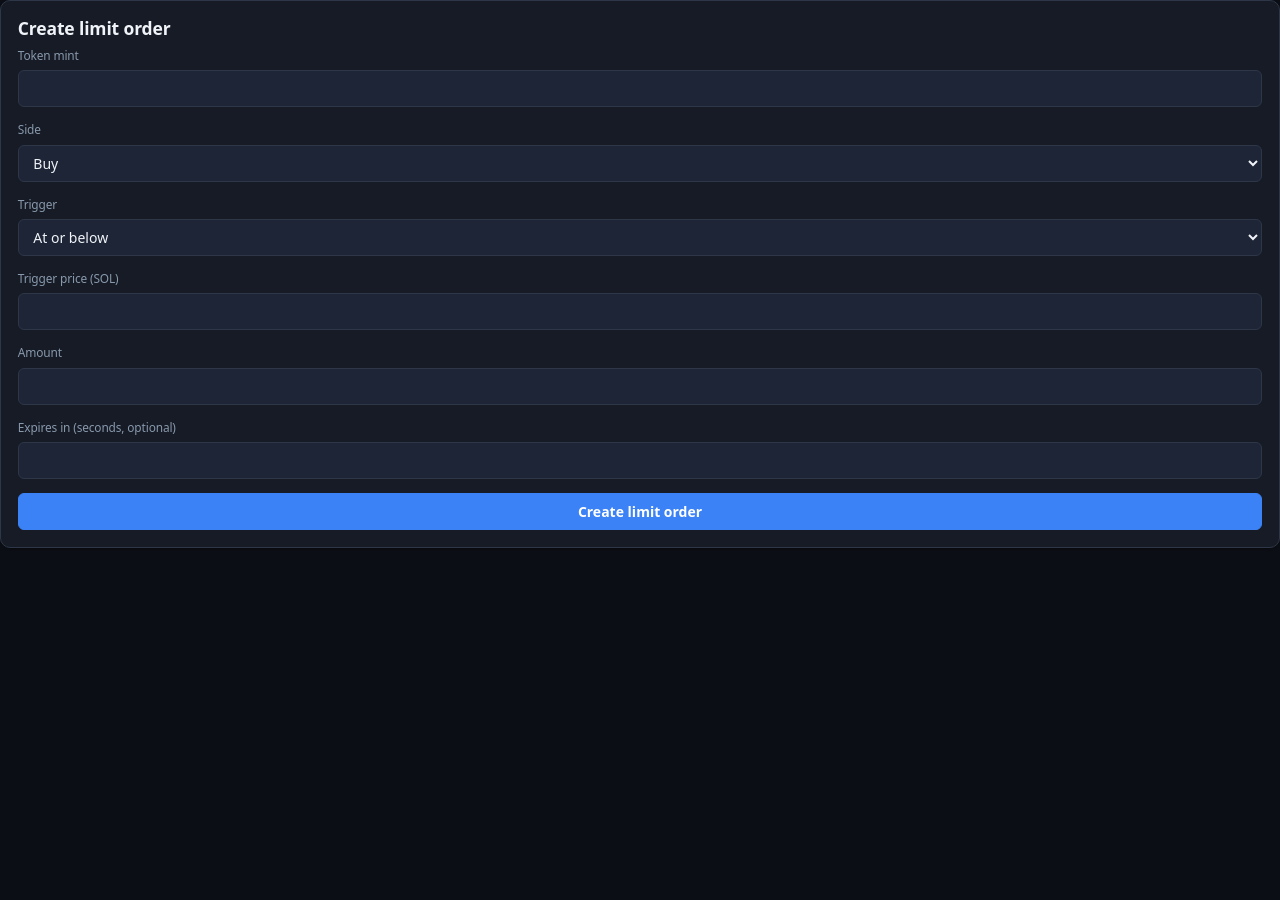
Limit orders › refuses a sell amount above the server's position-fraction limit
In the field labelled "Token mint": (640, 89) [18,70,1262,107], type "So11111111111111111111111111111111111111112"
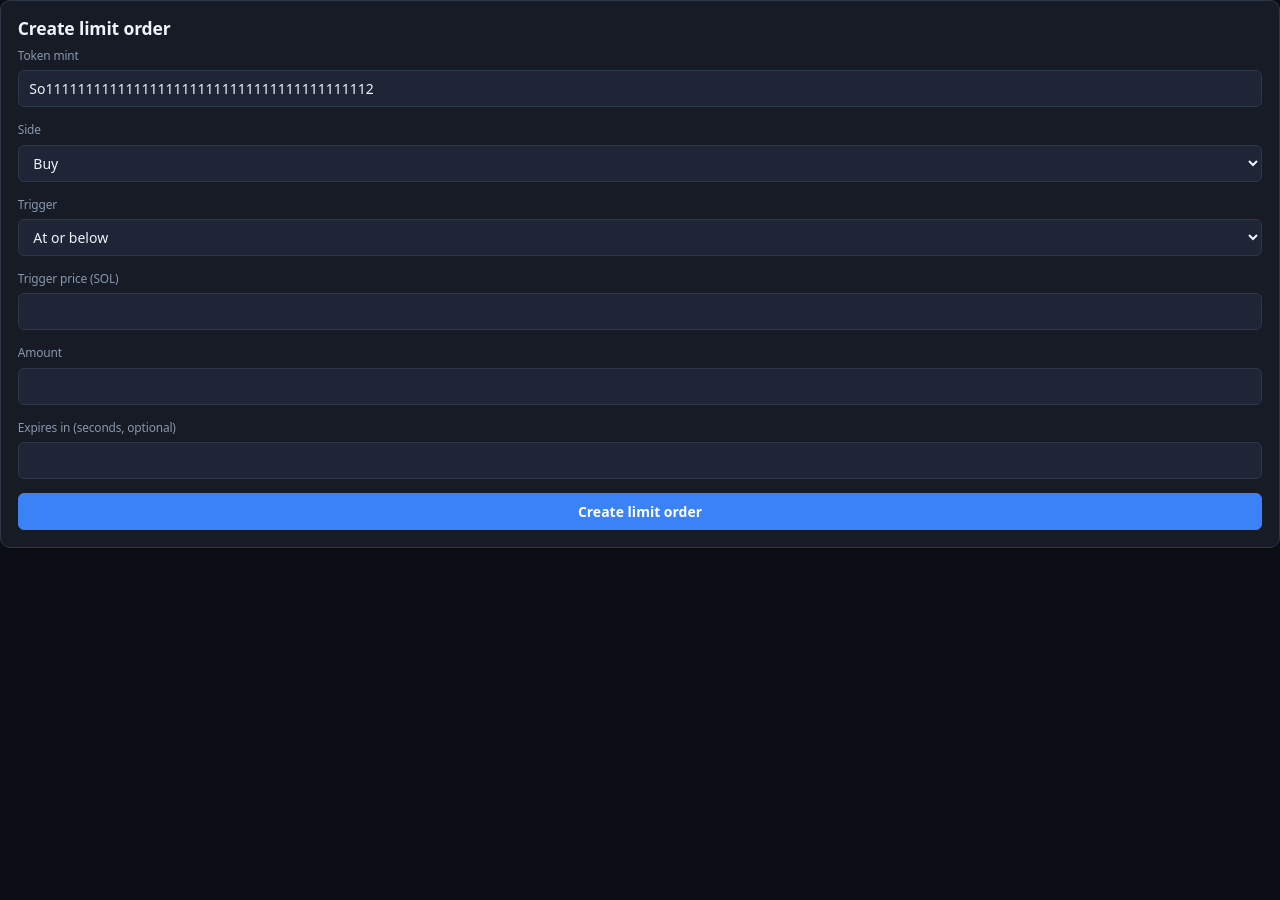
Select "Sell" in the dropdown labelled "Side": (640, 163) [18,145,1262,182]
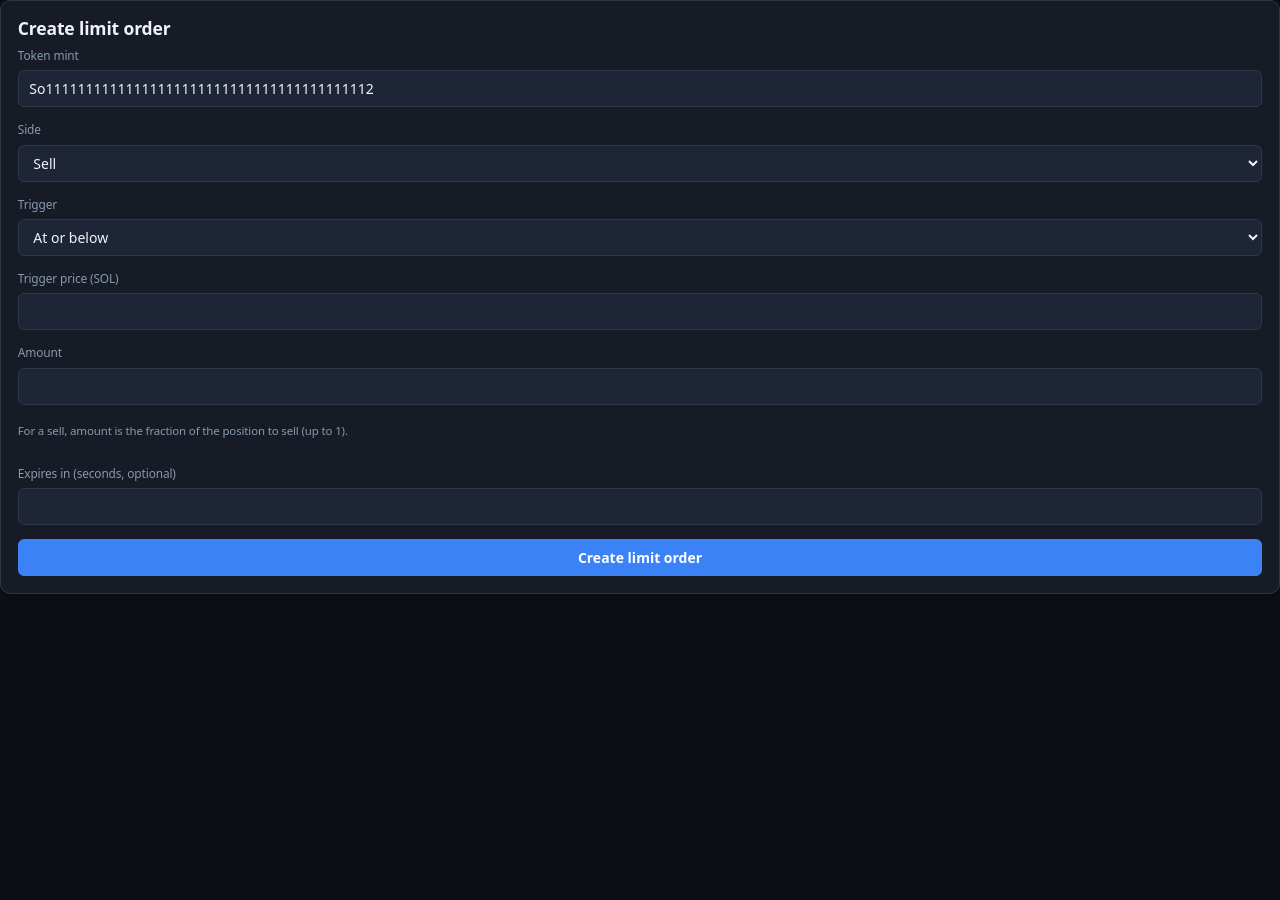
In the number field labelled "Trigger price (SOL)": (640, 312) [18,294,1262,330], type "0.02"
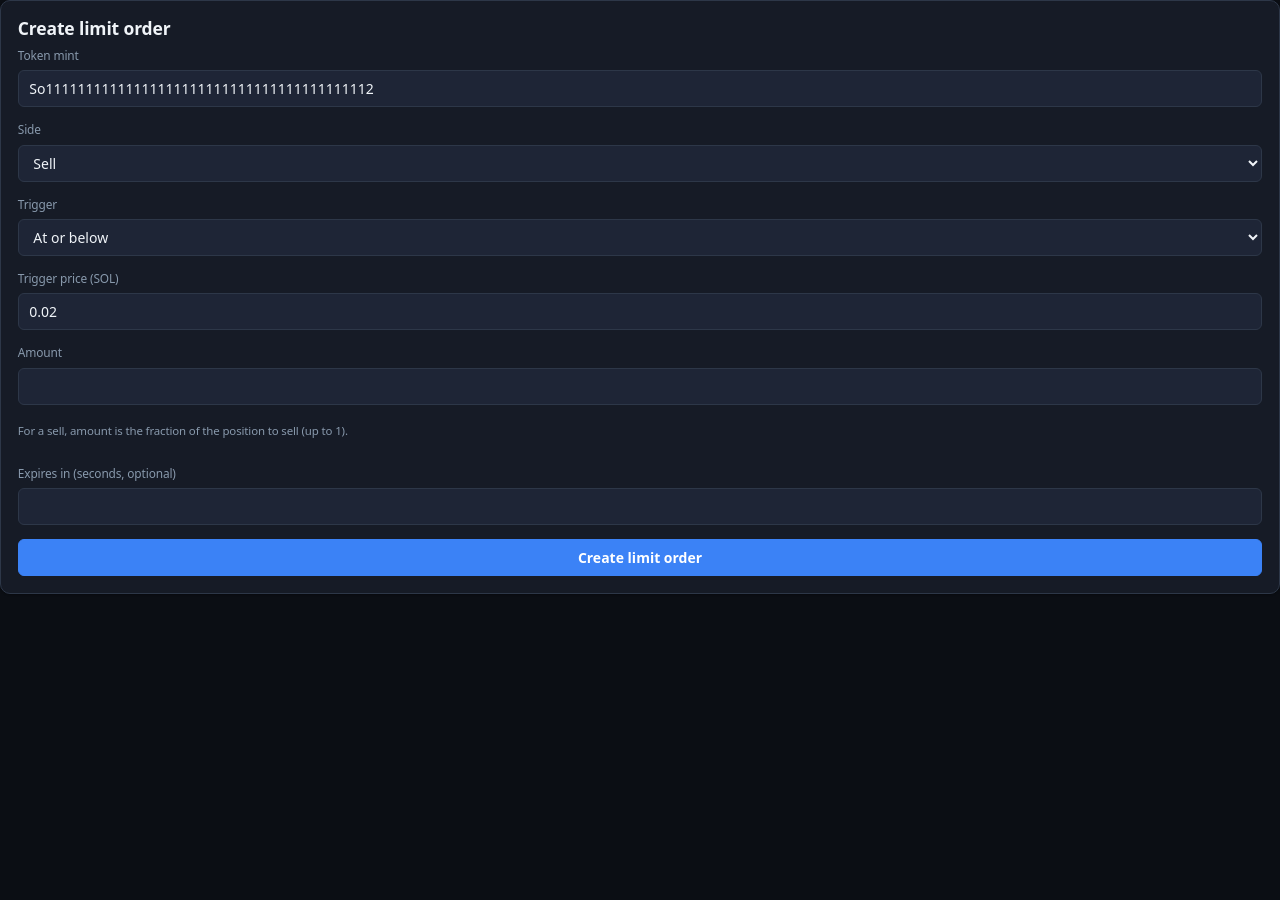
In the number field labelled "Amount": (640, 386) [18,368,1262,405], type "2"
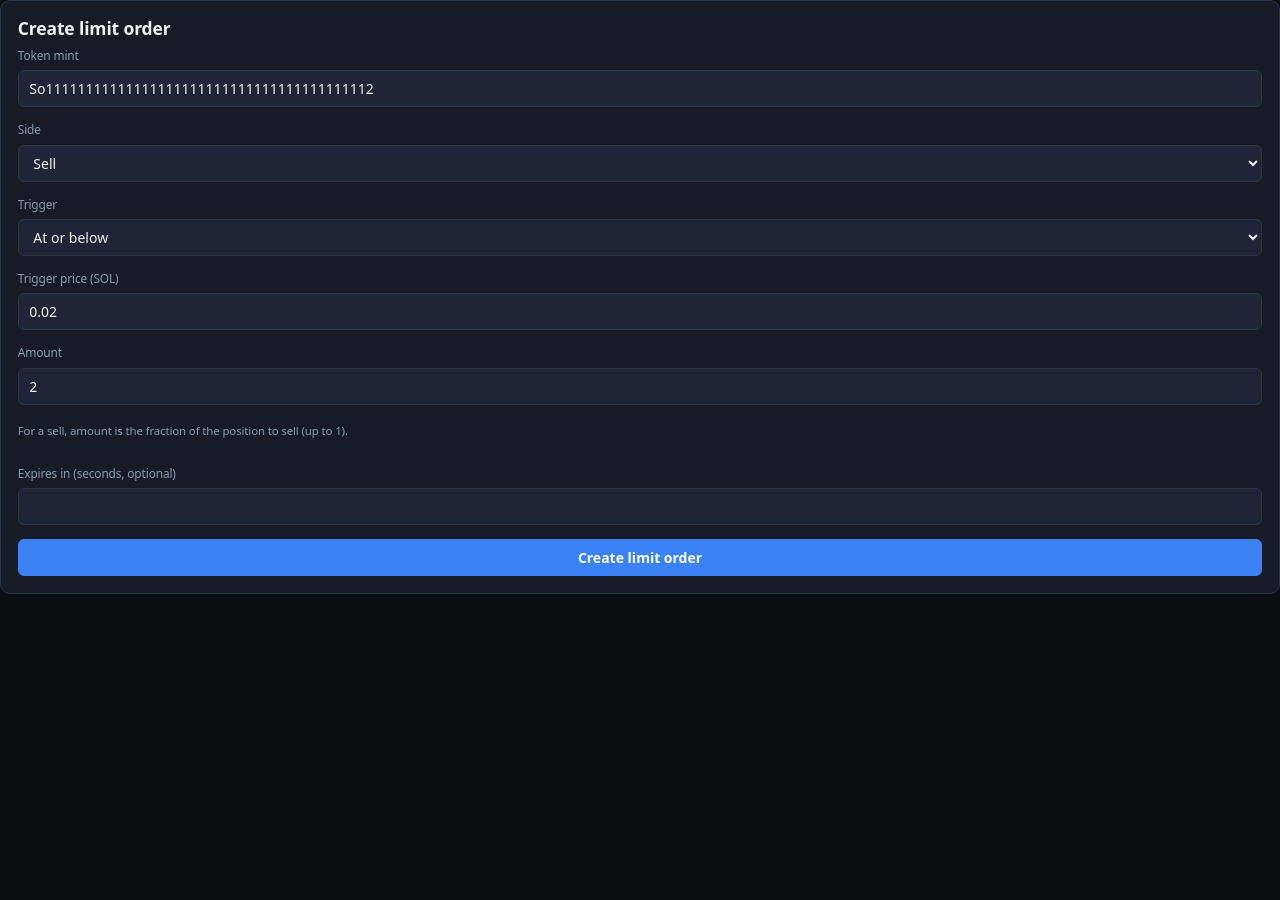
Click the button "Create limit order": (640, 558) [18,539,1262,576]
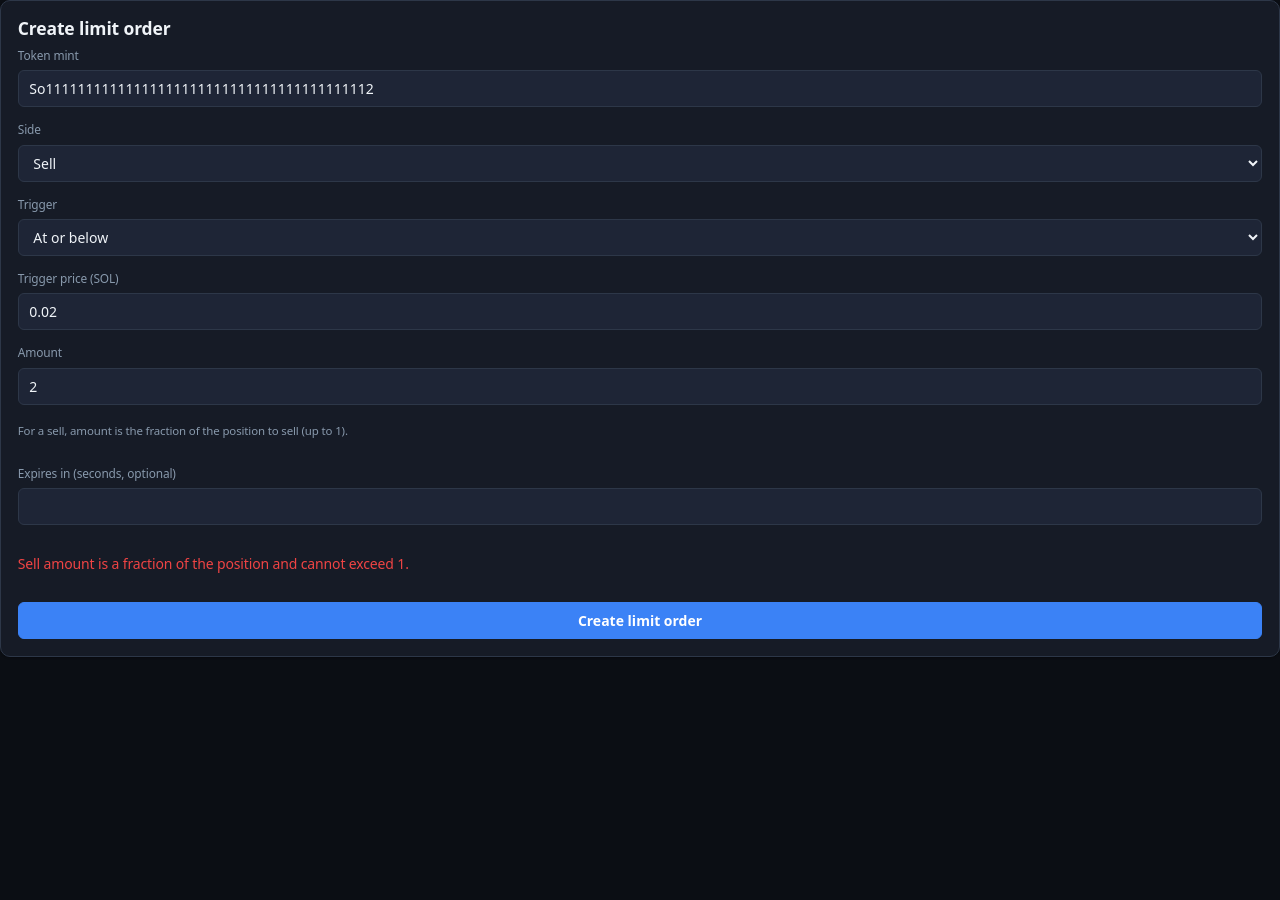
Result: the message "Sell amount is a fraction of the position and cannot exceed 1." is shown at [18,554,409,573]
